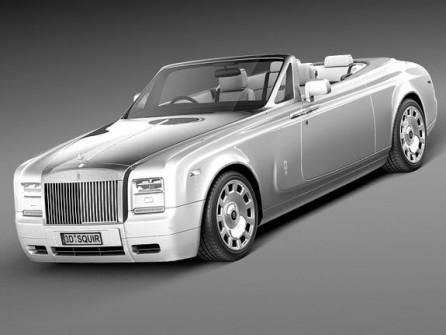car: (15, 55, 439, 263)
